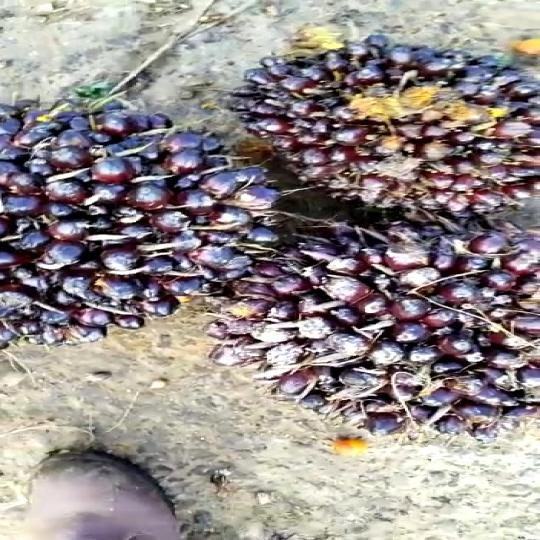kurang masak: (187, 208, 535, 463), (200, 35, 540, 237), (0, 83, 252, 339)
